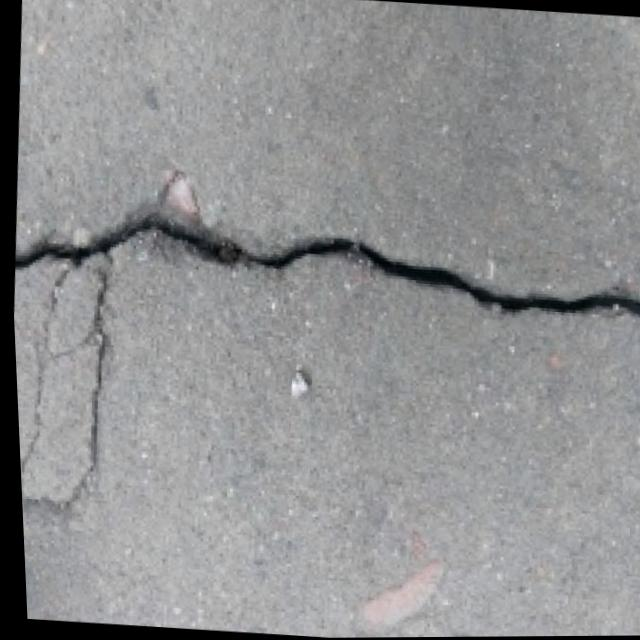Crack: (5, 152, 640, 362), (7, 189, 155, 536)
